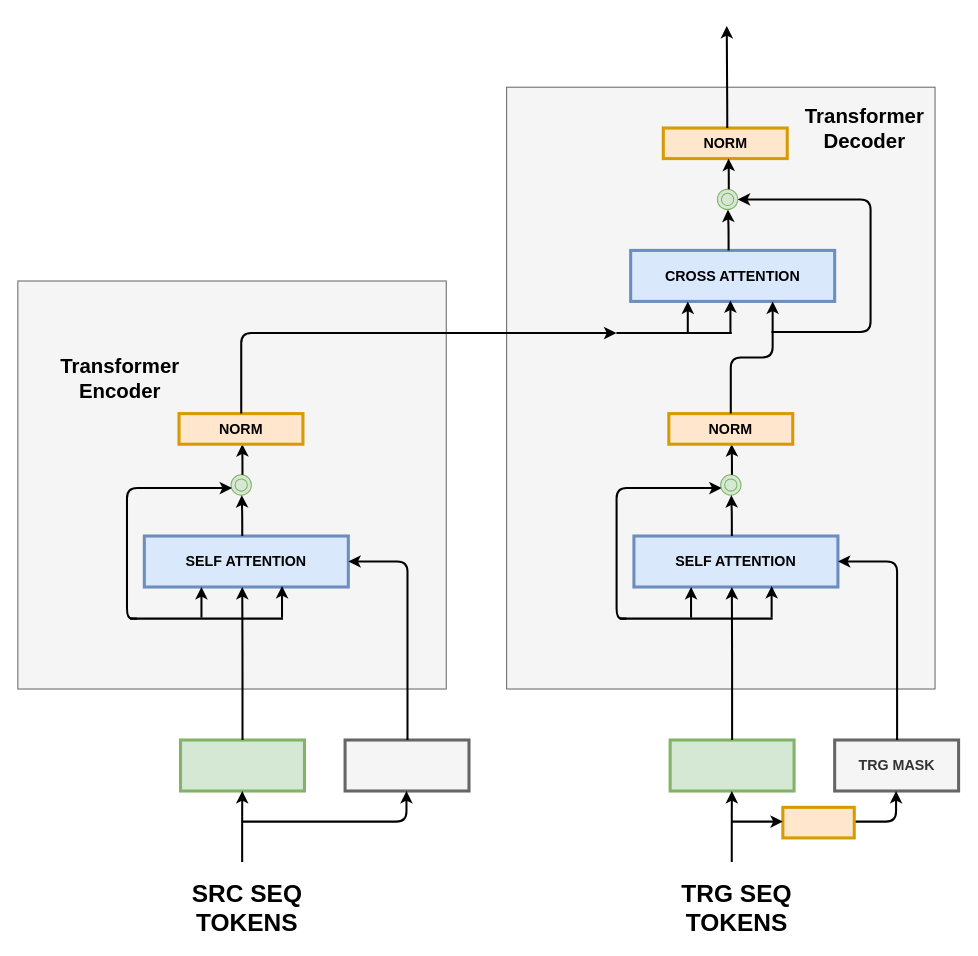
This 978x956 diagram has some shape labels left out. The shapes that lost their labels are listed below. From the top down, each one's box as (x1, y1, x2, y2) in pixels, then its label:
(178, 738, 305, 792): SRC EMBED
(343, 738, 470, 792): SRC MASK
(668, 738, 795, 792): TRG EMBED
(781, 805, 855, 839): Length
